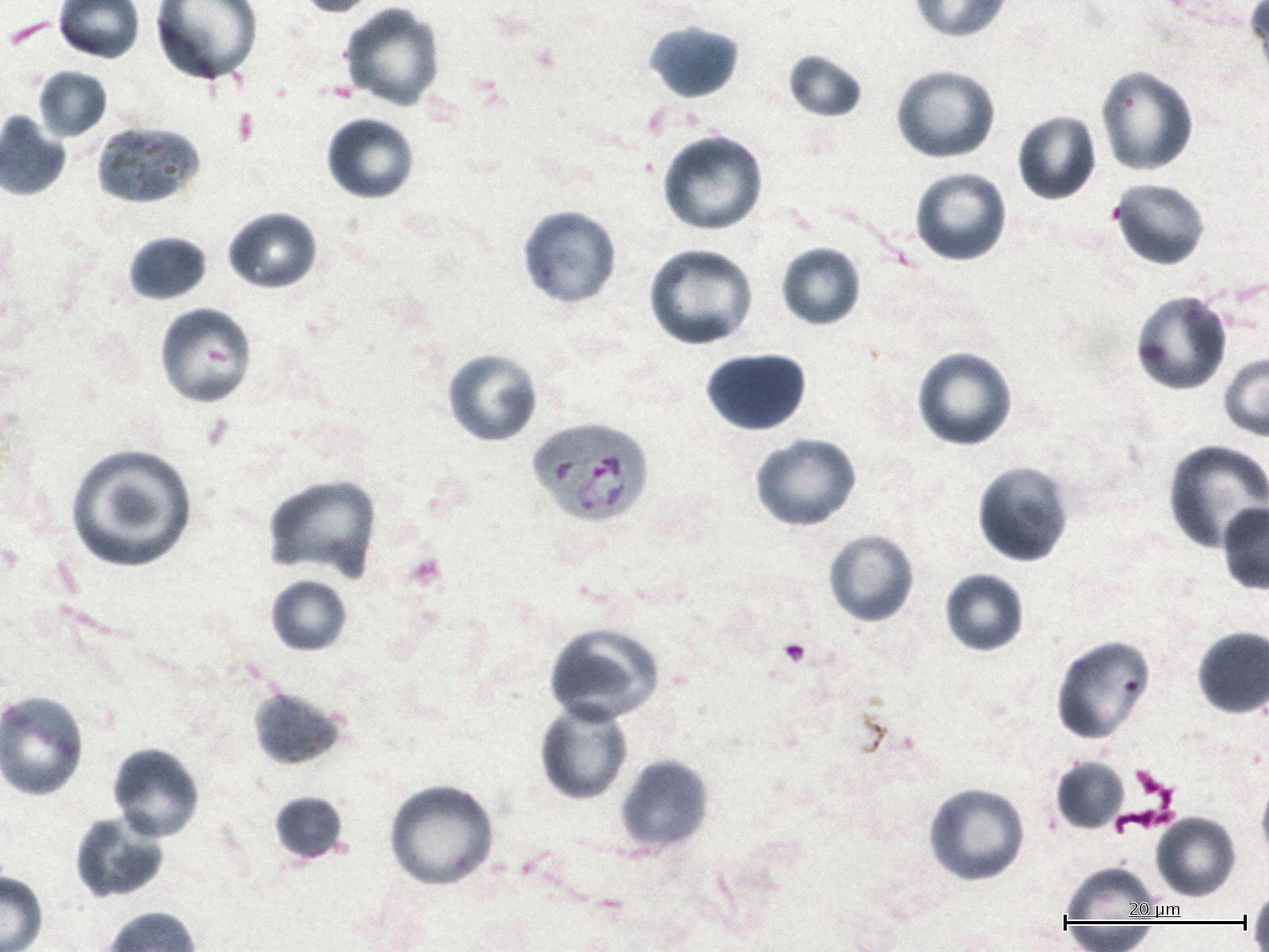Infected: (533, 424, 650, 520)
Uninfected: (76, 461, 186, 568), (388, 783, 491, 889), (270, 478, 376, 578), (649, 247, 753, 348), (551, 628, 655, 726), (1171, 448, 1268, 553), (662, 133, 762, 234), (1098, 69, 1194, 172), (928, 785, 1026, 884), (916, 349, 1012, 448), (346, 6, 440, 107), (159, 305, 251, 408), (755, 436, 856, 529), (895, 68, 995, 161), (976, 465, 1069, 564), (1056, 643, 1150, 740), (523, 209, 616, 307), (539, 702, 628, 803), (1136, 296, 1227, 393), (0, 695, 86, 797), (914, 169, 1007, 263), (94, 125, 201, 205), (447, 351, 539, 443), (111, 747, 199, 843), (619, 757, 708, 851), (705, 351, 806, 433), (827, 531, 915, 624), (73, 811, 165, 899), (1114, 180, 1206, 267), (326, 115, 415, 202), (227, 211, 319, 294), (250, 686, 343, 768), (1154, 814, 1238, 901), (1016, 112, 1098, 201), (646, 25, 739, 99), (943, 570, 1024, 654), (780, 246, 861, 328), (270, 577, 350, 654), (126, 232, 209, 305), (784, 49, 862, 122), (1052, 757, 1126, 833), (36, 66, 109, 143), (273, 791, 347, 863)
